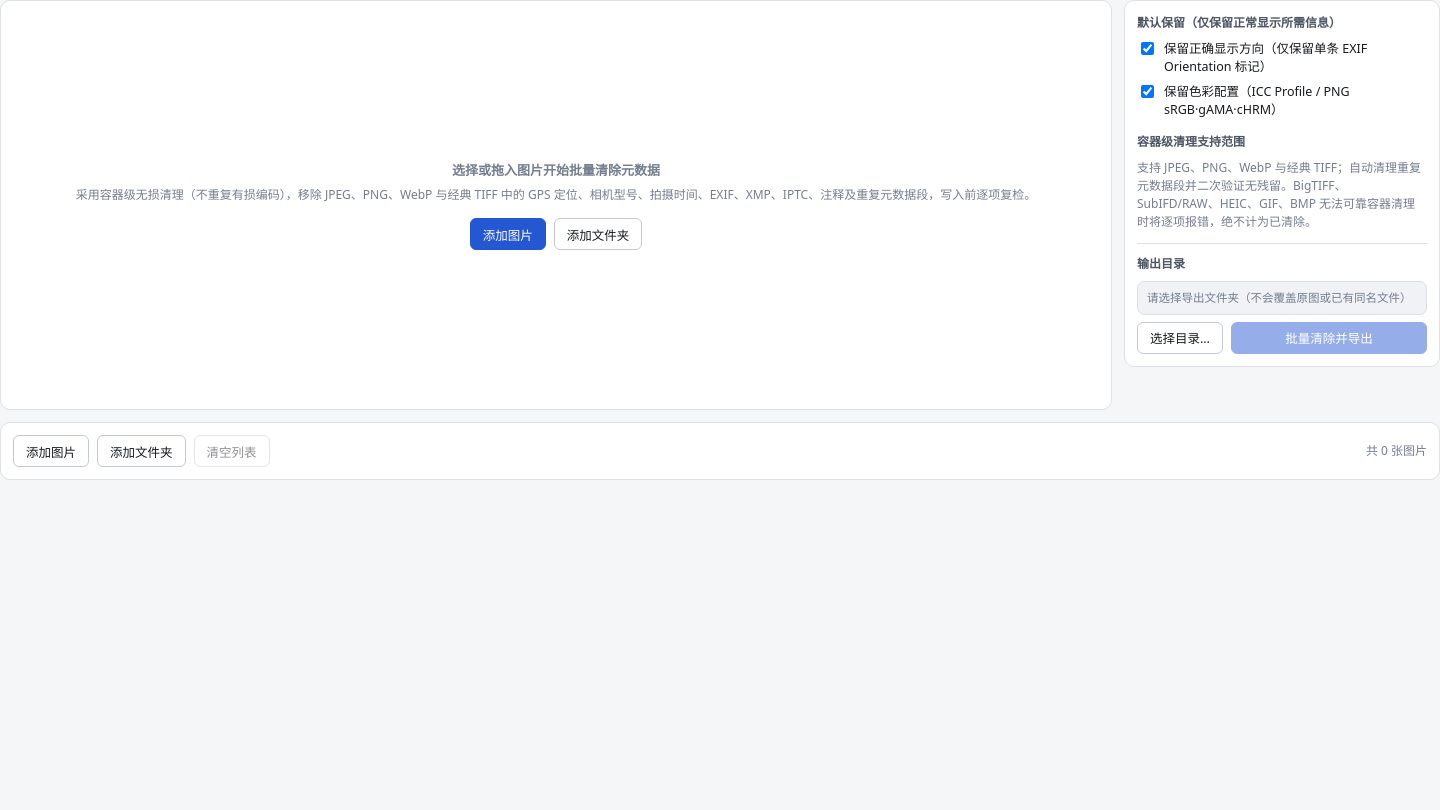
Test: I09 ImageMetadataWorkspace & Cross-tool batch persistence › displays detected GPS/XMP/IPTC/duplicate tags, defaults to keeping Orientation+ICC, warns on unsupported formats, and dispatches strip batch
The image size is (1440, 810).
Click the button "添加图片" below "选择或拖入图片开始批量清除元数据".
click(508, 234)  # box [470,218,546,250]
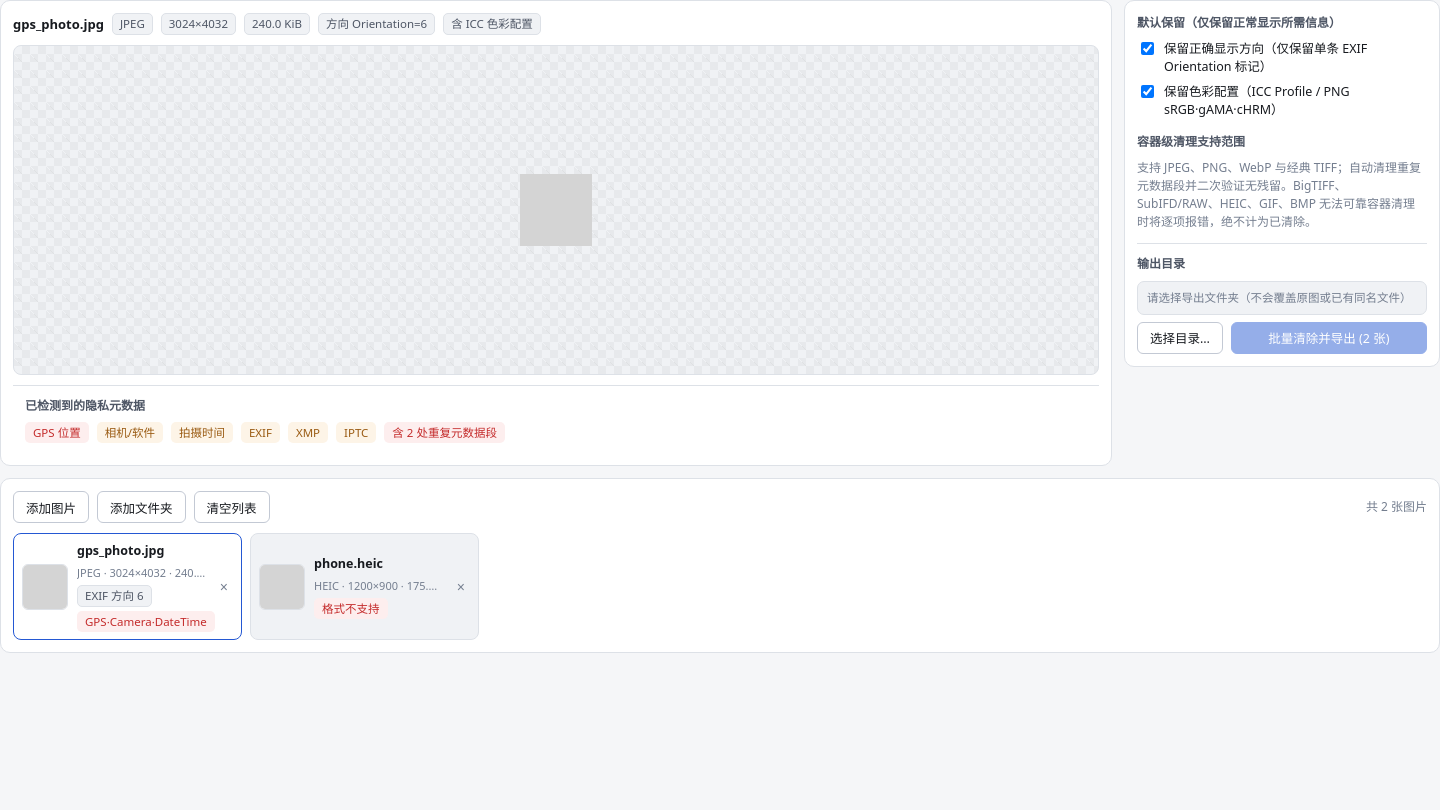
Result: the text "含 2 处重复元数据段" is shown at [384,422,505,443]
Result: the text "GPS 位置" is shown at [25,422,89,443]
Result: the text "方向 Orientation=6" is shown at [318,13,435,34]
Click the button "选择目录…".
click(1180, 338)  # box [1137,322,1223,354]
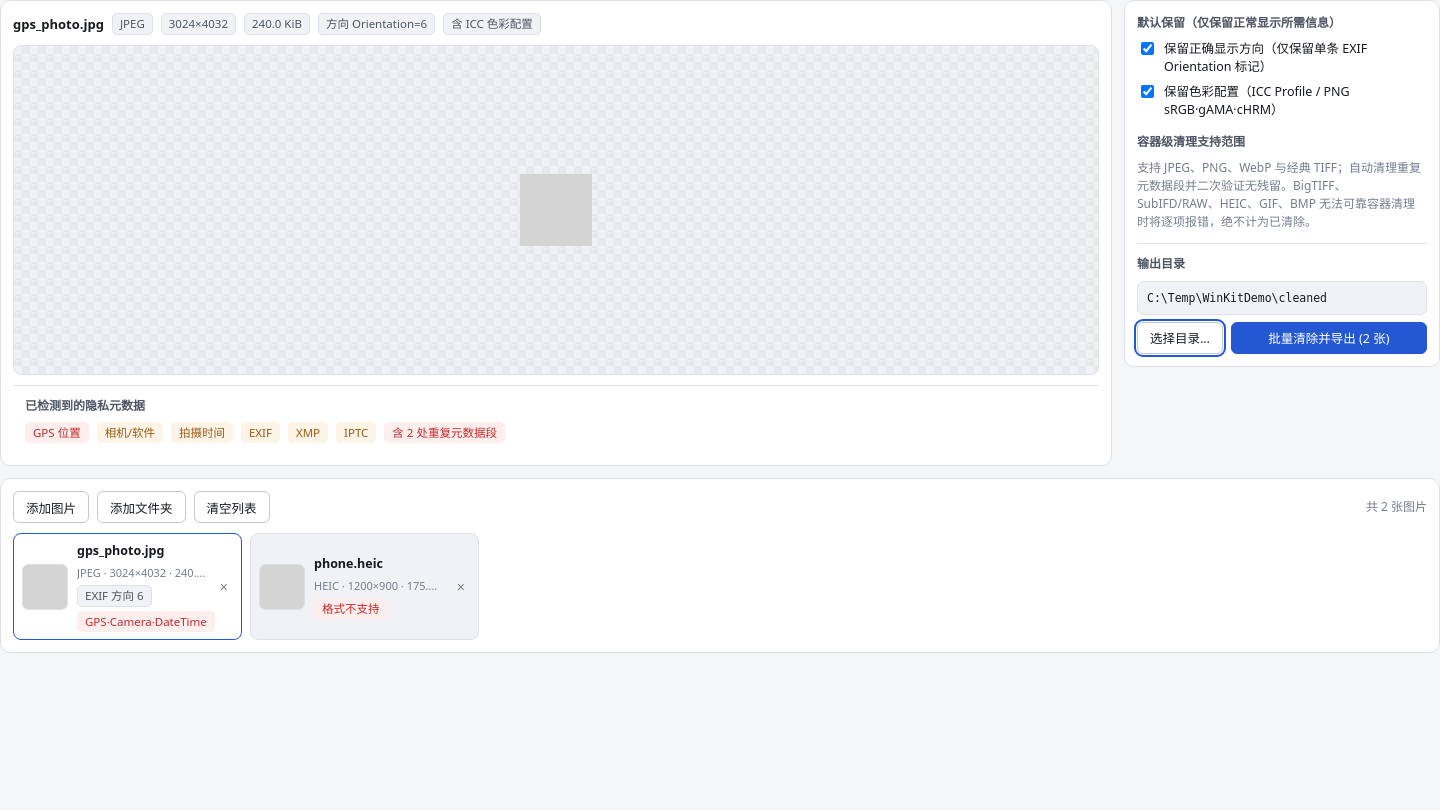
Click the button "批量清除并导出 (2 张)".
click(1329, 338)  # box [1231,322,1427,354]
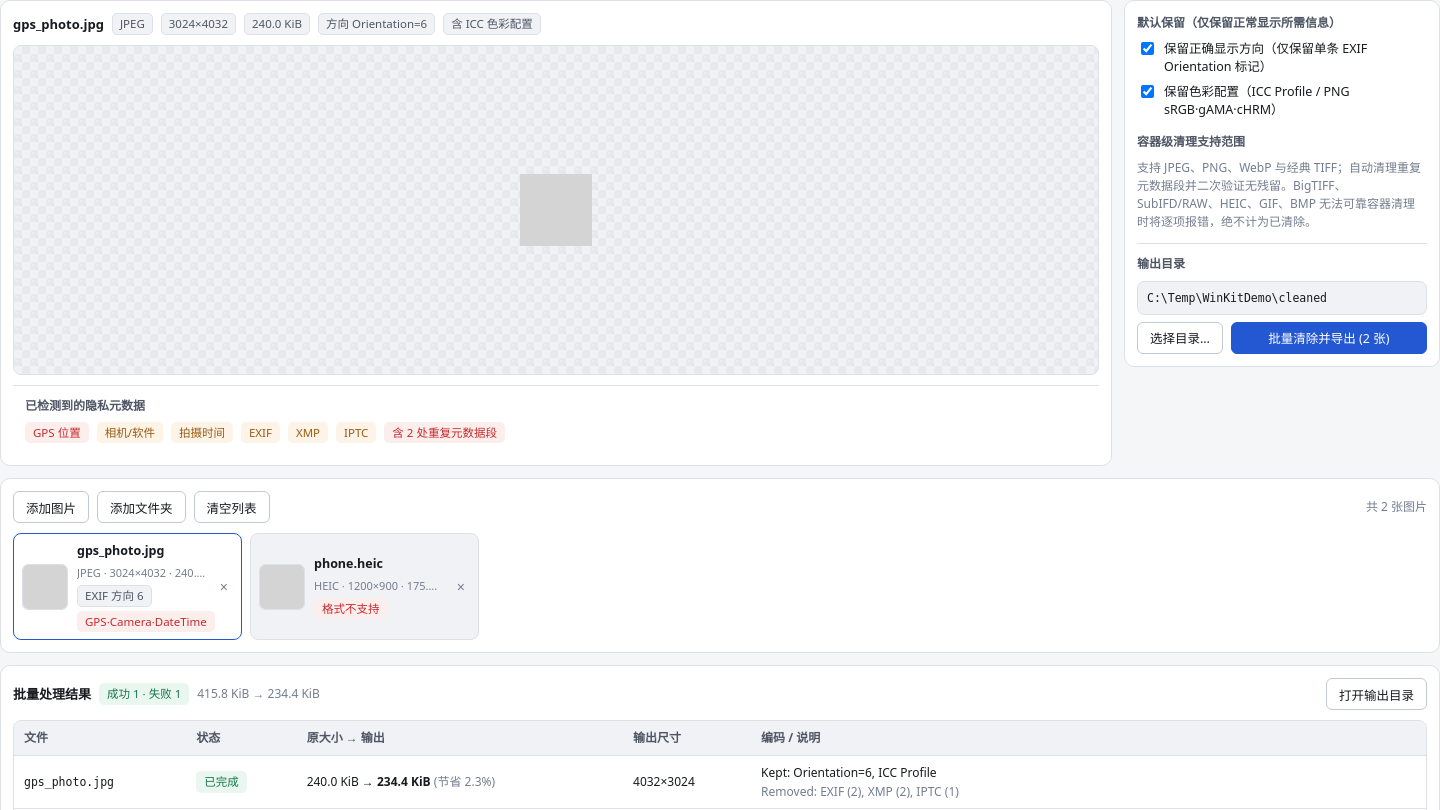
Result: the text "成功 1 · 失败 1" is shown at [99,683,189,705]
